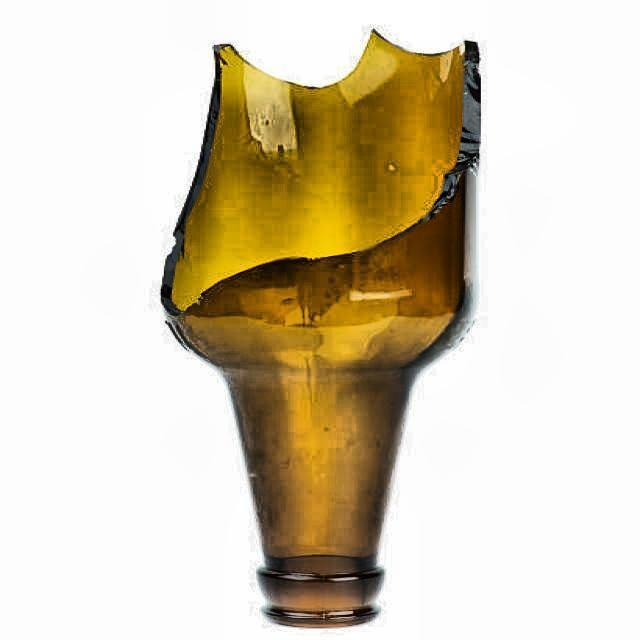glass: (161, 32, 482, 632)
